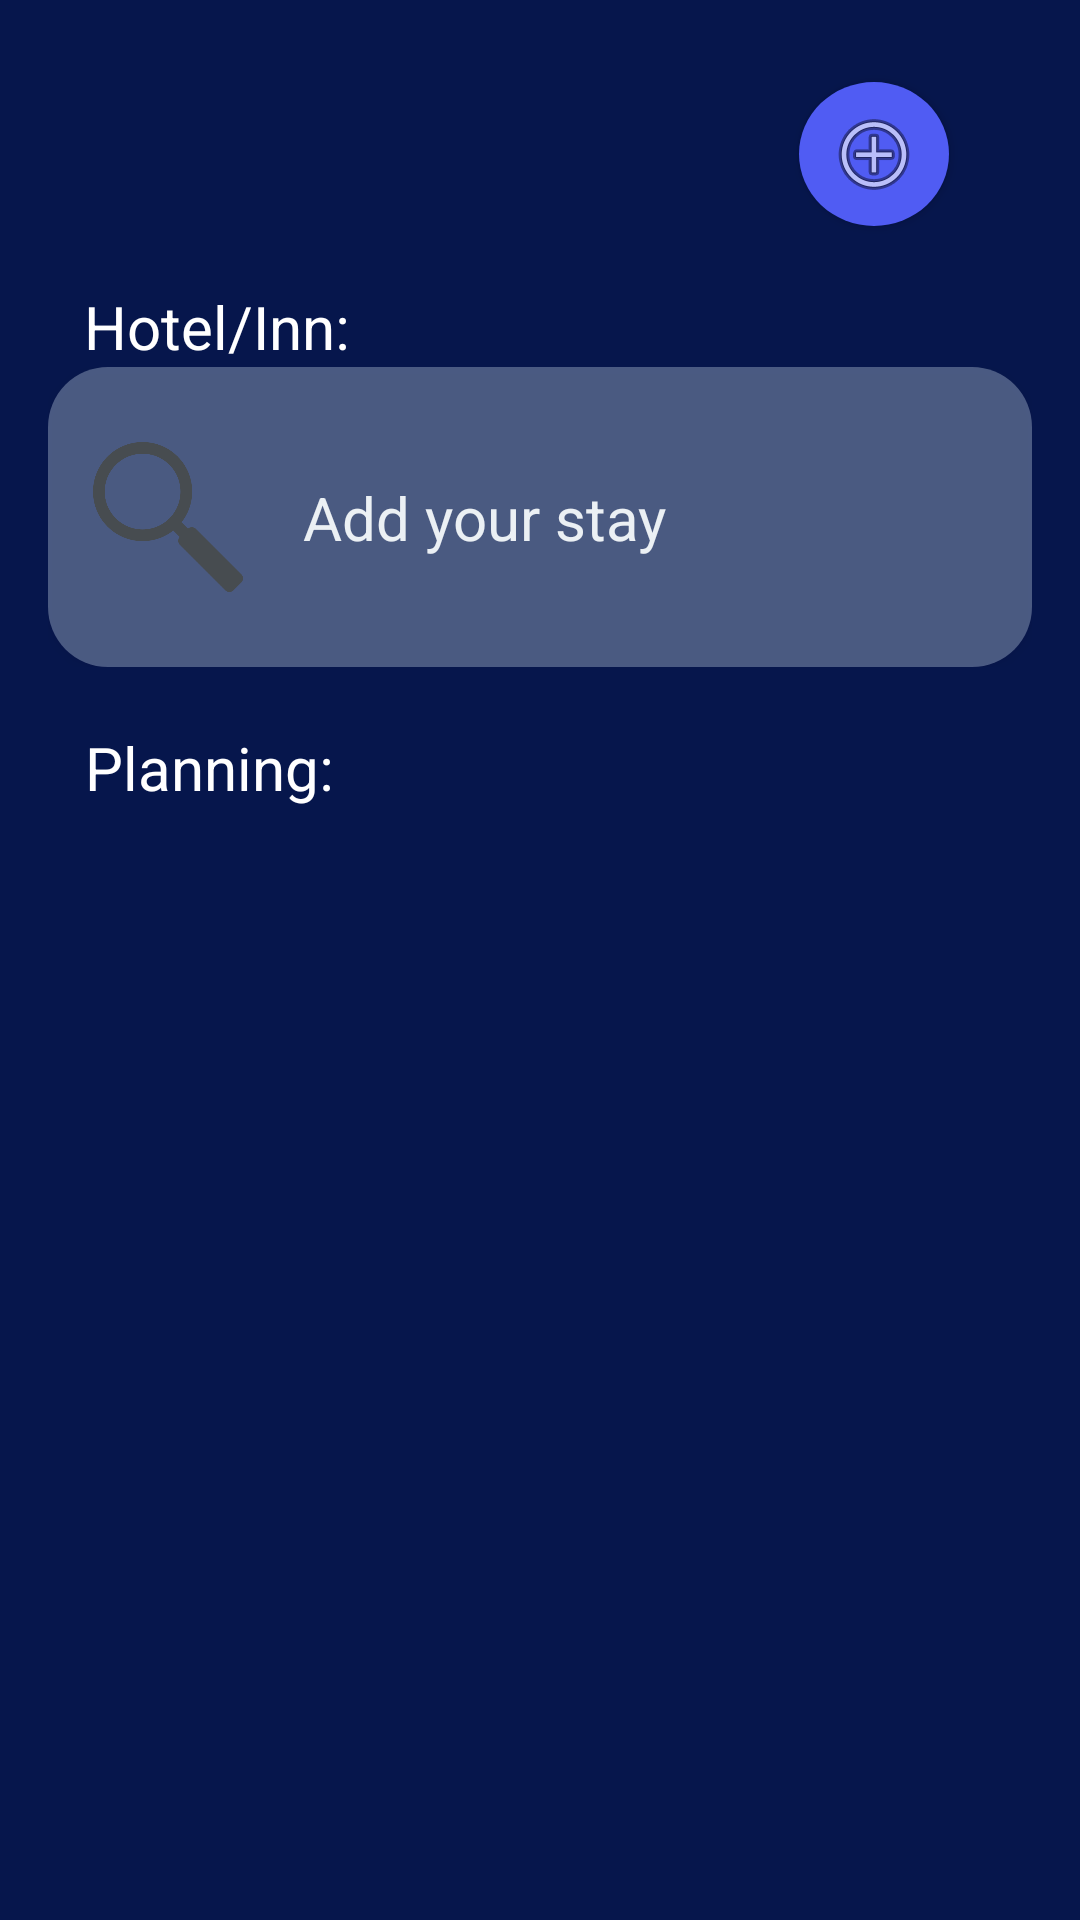

Icon click points for this 1080×1920 phone screenshot, format (x=x, y=y):
lupe: (x=168, y=517)
